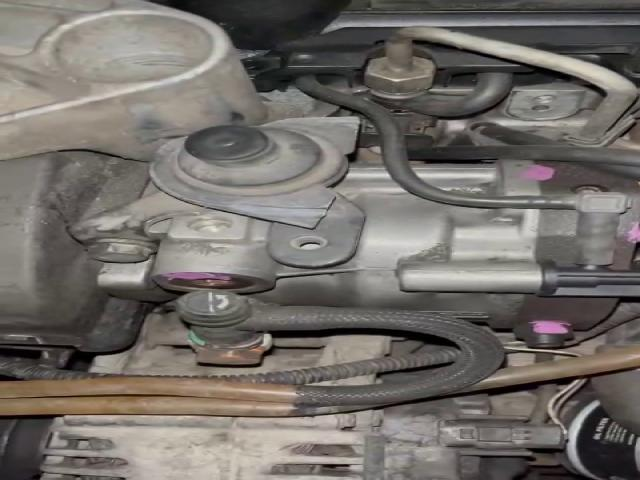alternator: (37, 394, 566, 480)
high_pressure_pump: (146, 152, 640, 350)
